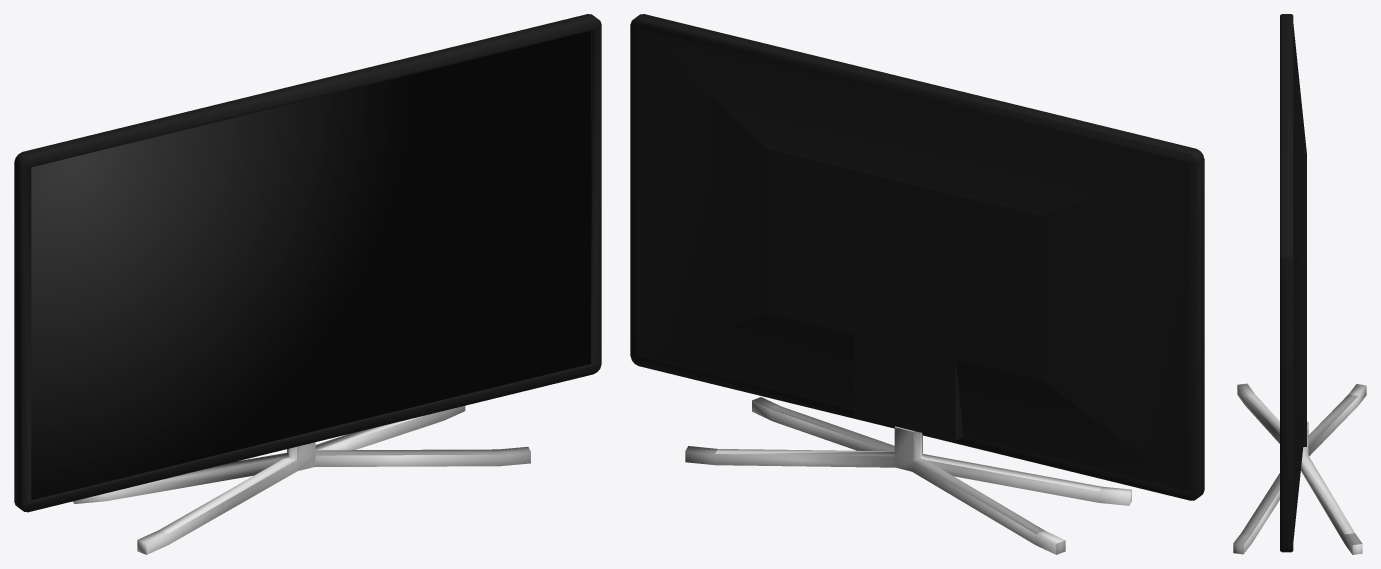
Rendered from tv-with-stand.glb.
The picture shows the model from 3 angles, left to right: view 1: azimuth 30°, elevation 25°; view 2: azimuth 150°, elevation 25°; view 3: azimuth 270°, elevation 25°; orthographic projection. The views are drawn at different scales.
Parts seen in each view (by area): view 1: Material3, Material2 (×3); view 2: Material2 (×3); view 3: Material2 (×3).
Part boxes in pixels (bbox=[...]): Material3: bbox=[31, 31, 590, 500]; Material2 (×3): bbox=[14, 14, 601, 554]; Material2 (×3): bbox=[630, 14, 1204, 554]; Material2 (×3): bbox=[1233, 14, 1366, 554].
Size of the model in its own units: 41.73 by 27.56 by 9.75.
4 materials, 3 textured.
